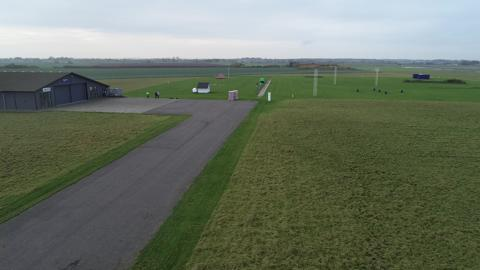RockwoolPallet: (233, 89, 239, 101)
